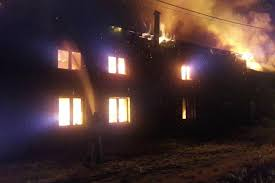fire: (143, 7, 274, 72)
